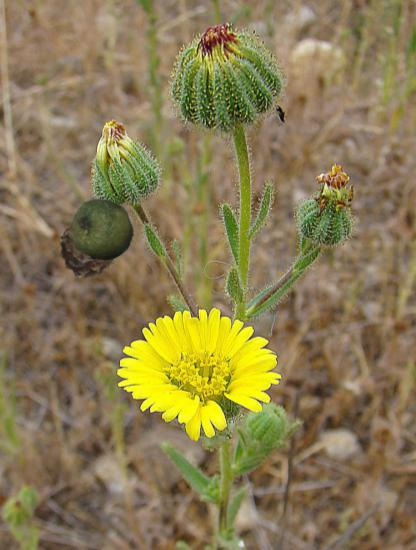Limes: (70, 198, 135, 263)
Pineapple: (57, 214, 124, 281)
